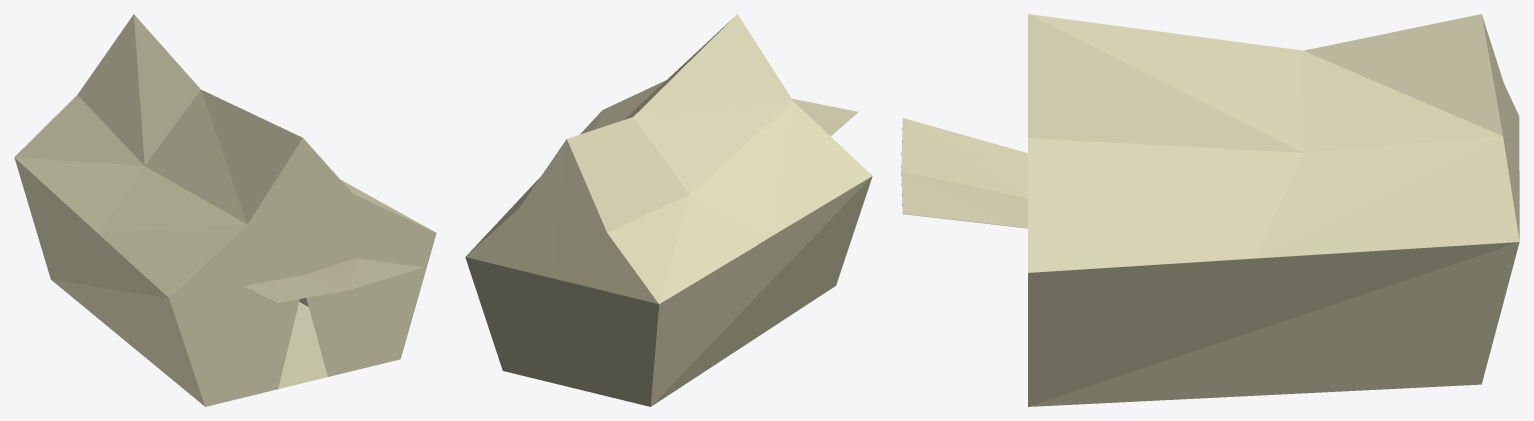
The model's file is sanitätszelt-Innenzelt.fbx.
3 renders of one model, left to right at view 1: azimuth 30°, elevation 25°; view 2: azimuth 150°, elevation 25°; view 3: azimuth 270°, elevation 25°, orthographic. The views are drawn at different scales.
Parts seen in each view (by area): view 1: dach_1; view 2: dach_1; view 3: dach_1.
Boxes of the visible parts, x1,y1,x2,y2 form: dach_1: [14, 14, 436, 406]; dach_1: [465, 14, 872, 406]; dach_1: [901, 14, 1519, 406].
Bounding box in the file's own units: 548 × 480 × 817.
